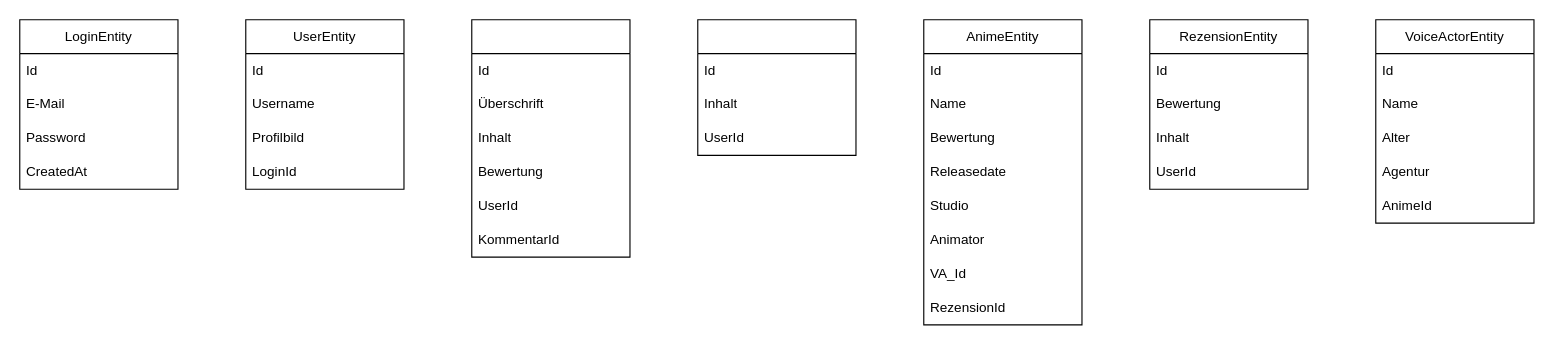
Some shapes in this 1554 by 345 pixel diagram are drawn without their labels. The box of each missing label's shape, as (x1, y1, x2, y2) in pixels:
BeitragEntity: (471, 19, 630, 257)
KommentarEntity: (697, 19, 856, 155)
